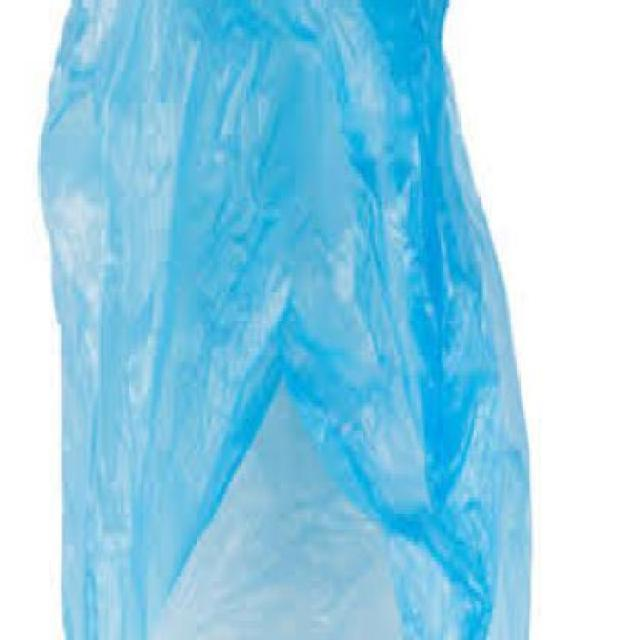PLASTIC: (34, 3, 532, 639)
